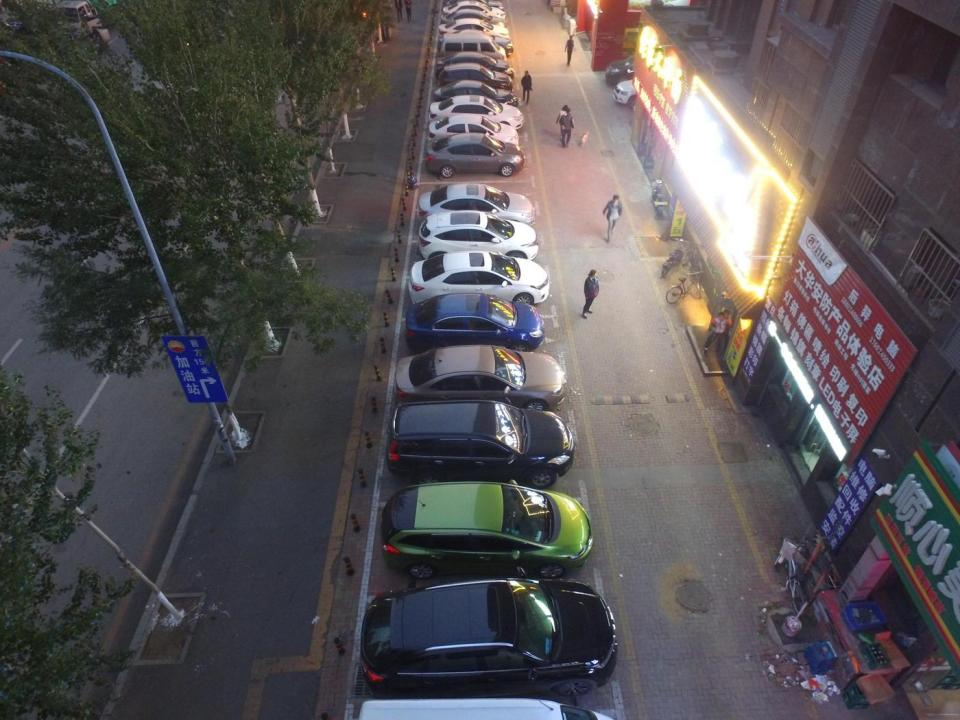car: (358, 581, 621, 705), (382, 481, 592, 586), (388, 397, 575, 486), (395, 346, 566, 410), (412, 248, 548, 305), (407, 292, 541, 348), (419, 209, 540, 261), (419, 183, 536, 232), (424, 134, 525, 174), (430, 94, 526, 130), (426, 117, 520, 151), (431, 81, 519, 108), (605, 52, 675, 82), (437, 64, 515, 88), (438, 28, 515, 51), (439, 54, 512, 78), (614, 80, 677, 107)
van: (440, 34, 504, 65), (445, 2, 507, 31), (435, 19, 505, 32)
